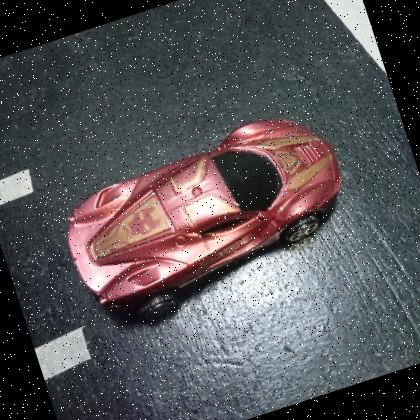Car: (67, 119, 343, 324)
